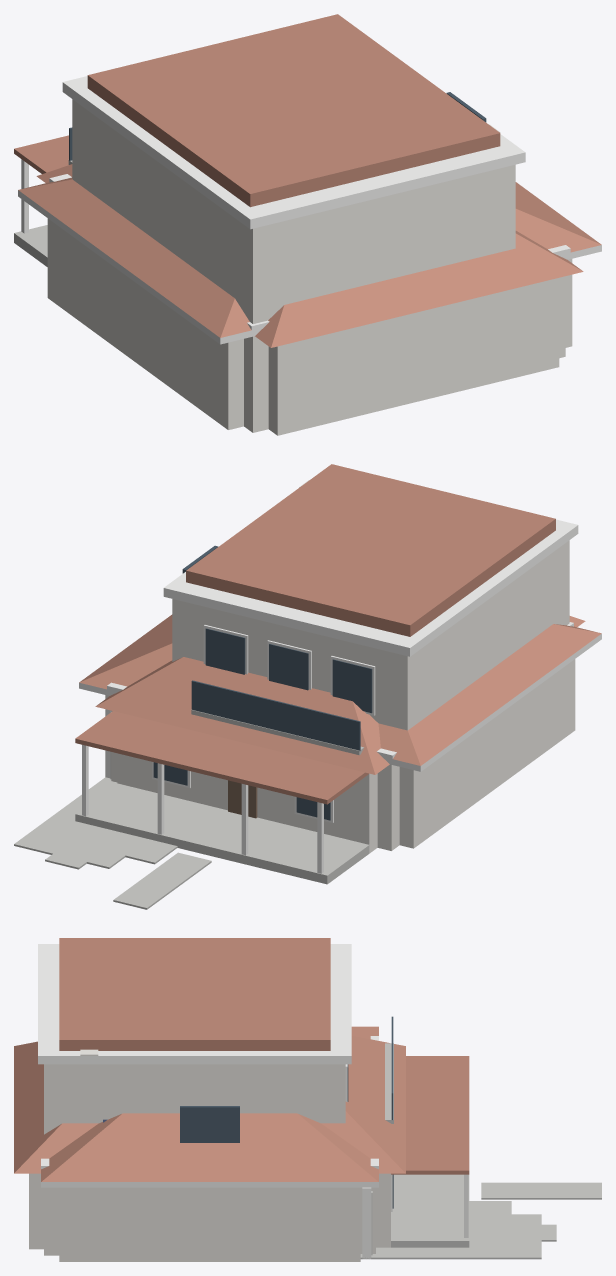
File: houses.glb
The picture shows the model from 3 angles, top to bottom: view 1: azimuth 30°, elevation 25°; view 2: azimuth 150°, elevation 25°; view 3: azimuth 270°, elevation 25°; orthographic projection. The views are drawn at different scales.
Visible parts, largest first — view 1: house_B, house_C, house_A; view 2: house_B, house_C, house_A; view 3: house_B, house_A, house_C.
Boxes of the visible parts, left/top/right/bottom form: house_B: left=49, top=14, right=570, bottom=432; house_C: left=14, top=124, right=583, bottom=435; house_A: left=18, top=177, right=601, bottom=429; house_B: left=45, top=464, right=578, bottom=869; house_C: left=75, top=480, right=585, bottom=909; house_A: left=14, top=614, right=601, bottom=868; house_B: left=38, top=938, right=556, bottom=1255; house_A: left=41, top=1026, right=541, bottom=1261; house_C: left=14, top=1035, right=601, bottom=1249.
Bounding box in the file's own units: 12.2 × 7.05 × 19.5.
